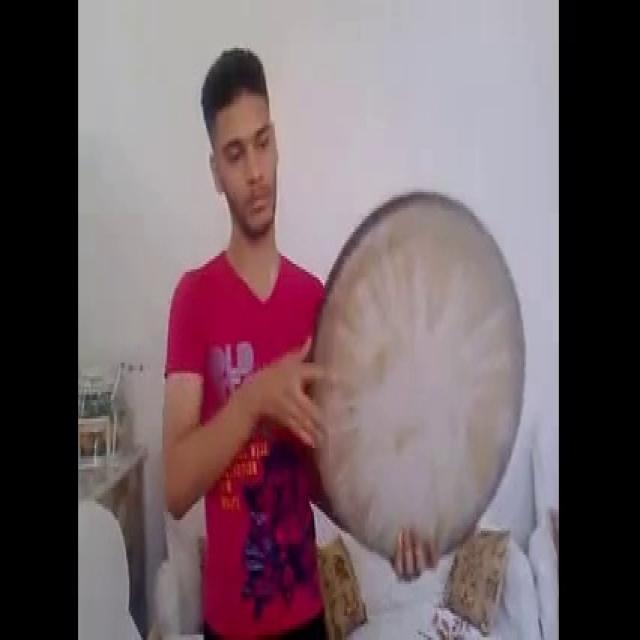Daf: (308, 187, 526, 560)
